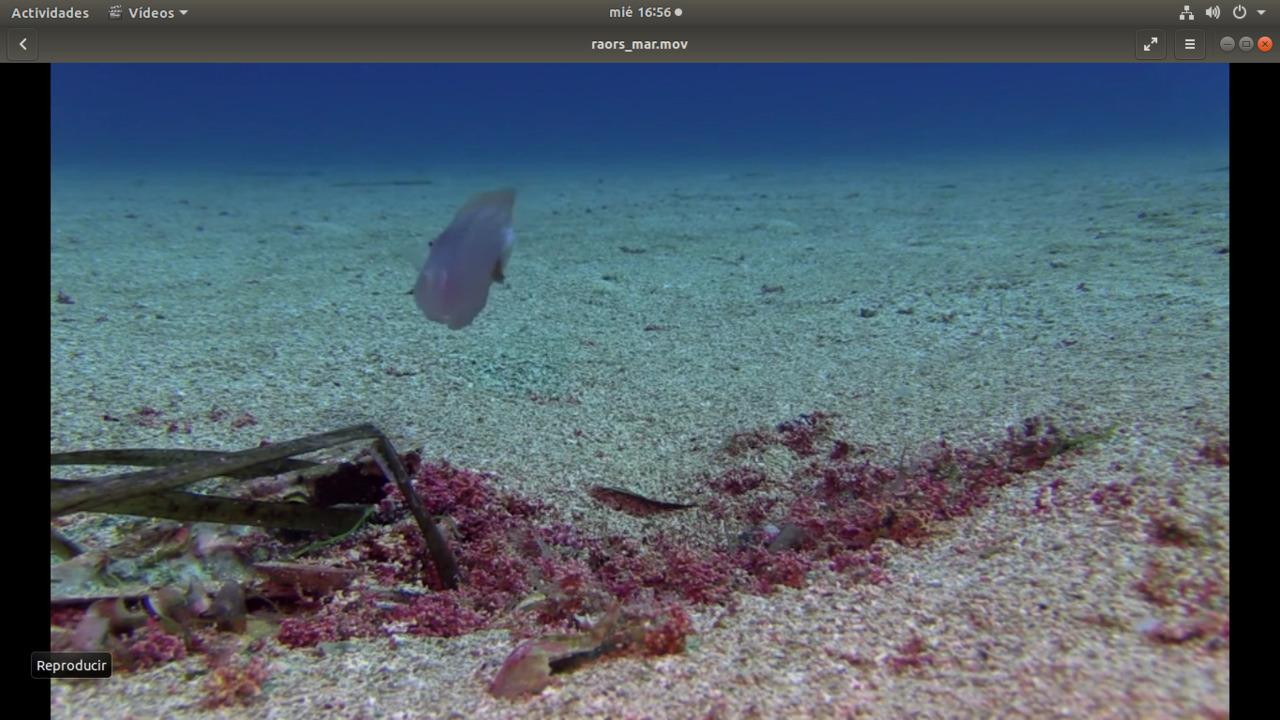raor: (401, 182, 532, 347)
